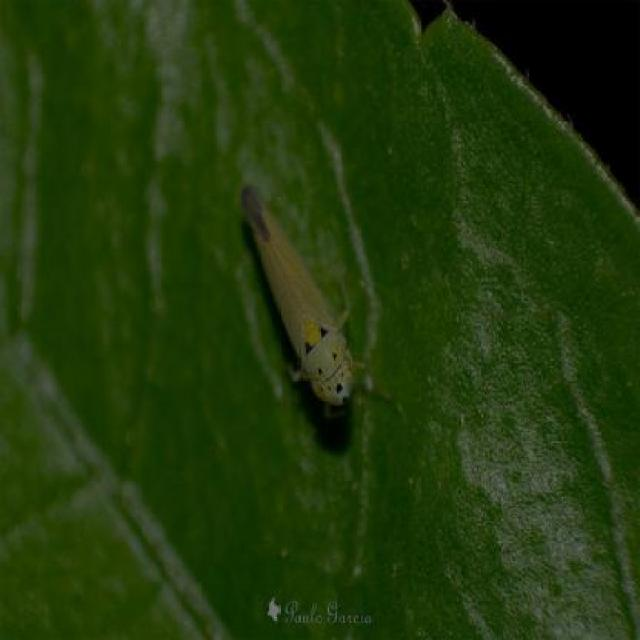green-leafhopper: (242, 188, 383, 426)
